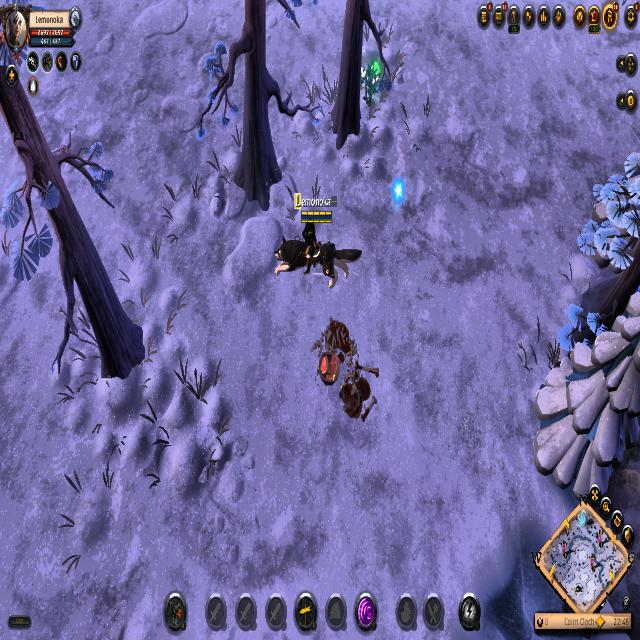fiber tier 4: (361, 60, 384, 111)
